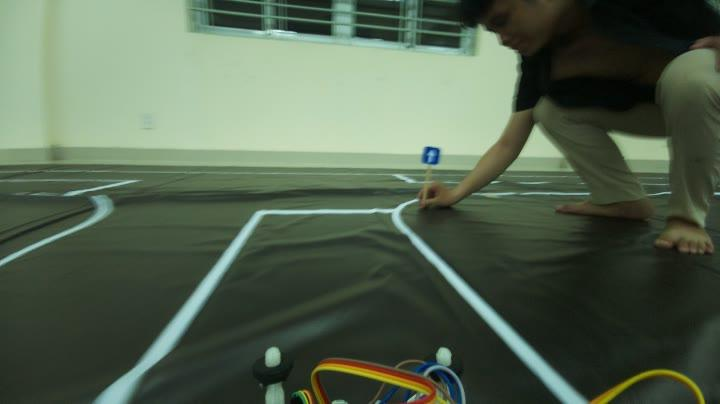onewayroad: (419, 141, 445, 166)
